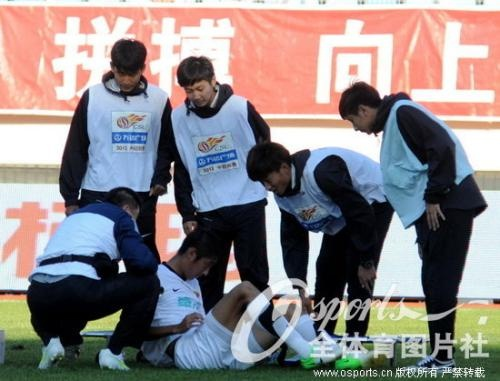falling: (130, 218, 322, 375)
